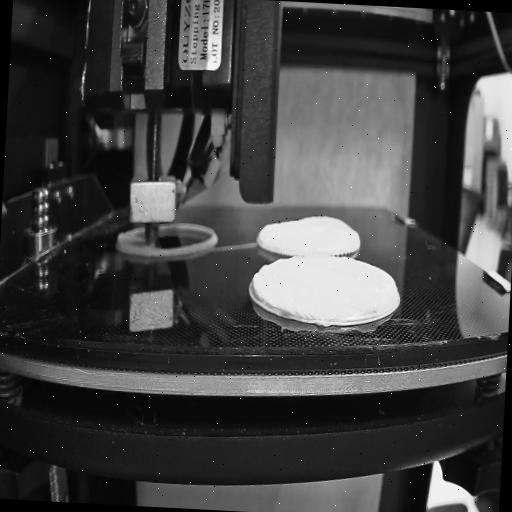over_extrusion: (250, 270, 268, 306)
